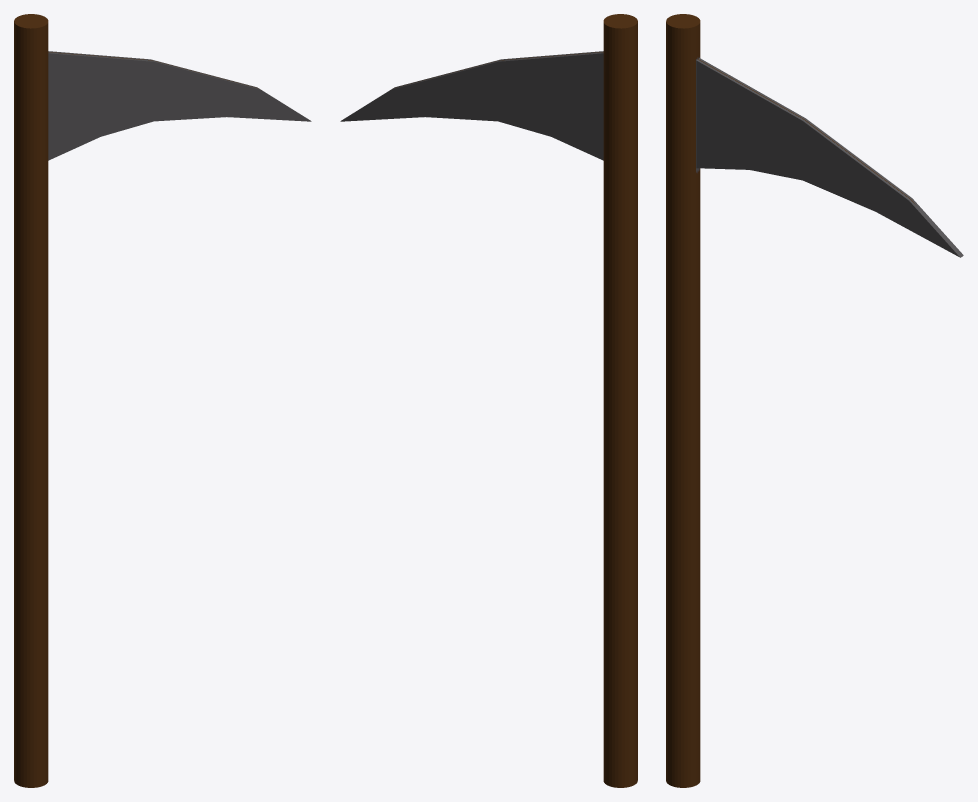
Rendered from foice.fbx.
3 renders of one model, left to right at view 1: azimuth 30°, elevation 25°; view 2: azimuth 150°, elevation 25°; view 3: azimuth 330°, elevation 25°, orthographic.
Visible parts, largest first — view 1: Cylinder; view 2: Cylinder; view 3: Cylinder.
Part boxes in pixels (x1,y1,x2,y2): Cylinder: (14, 14, 311, 787); Cylinder: (340, 14, 637, 787); Cylinder: (666, 14, 963, 787).
Bounding box in the file's own units: 211 × 521 × 21.42.
1 material, 1 textured.
